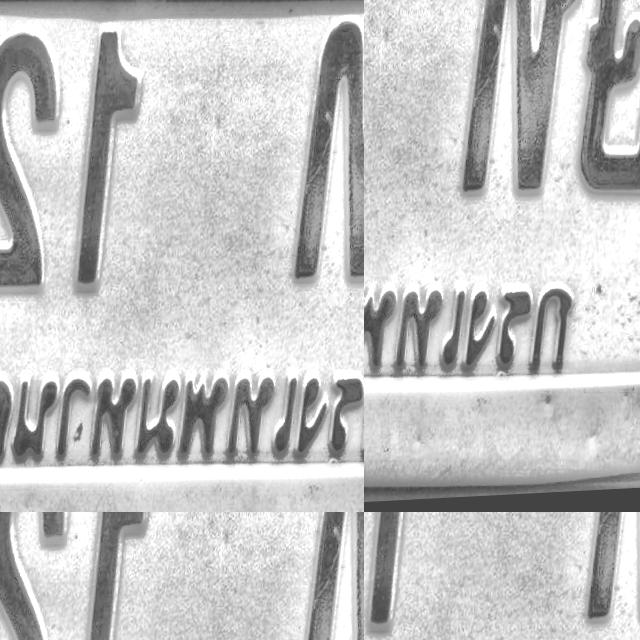license-plate: (364, 512, 640, 640), (364, 0, 640, 113)
